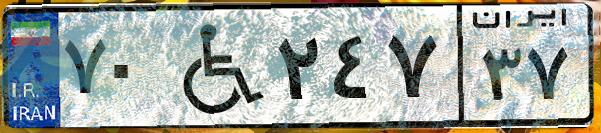0: (110, 28, 158, 98)
2: (270, 28, 330, 110)
3: (475, 38, 525, 113)
4: (330, 28, 385, 110)
7: (385, 28, 445, 110), (57, 26, 110, 100), (525, 38, 570, 115)
ژ (معلولین و جانبازان): (158, 12, 270, 120)
